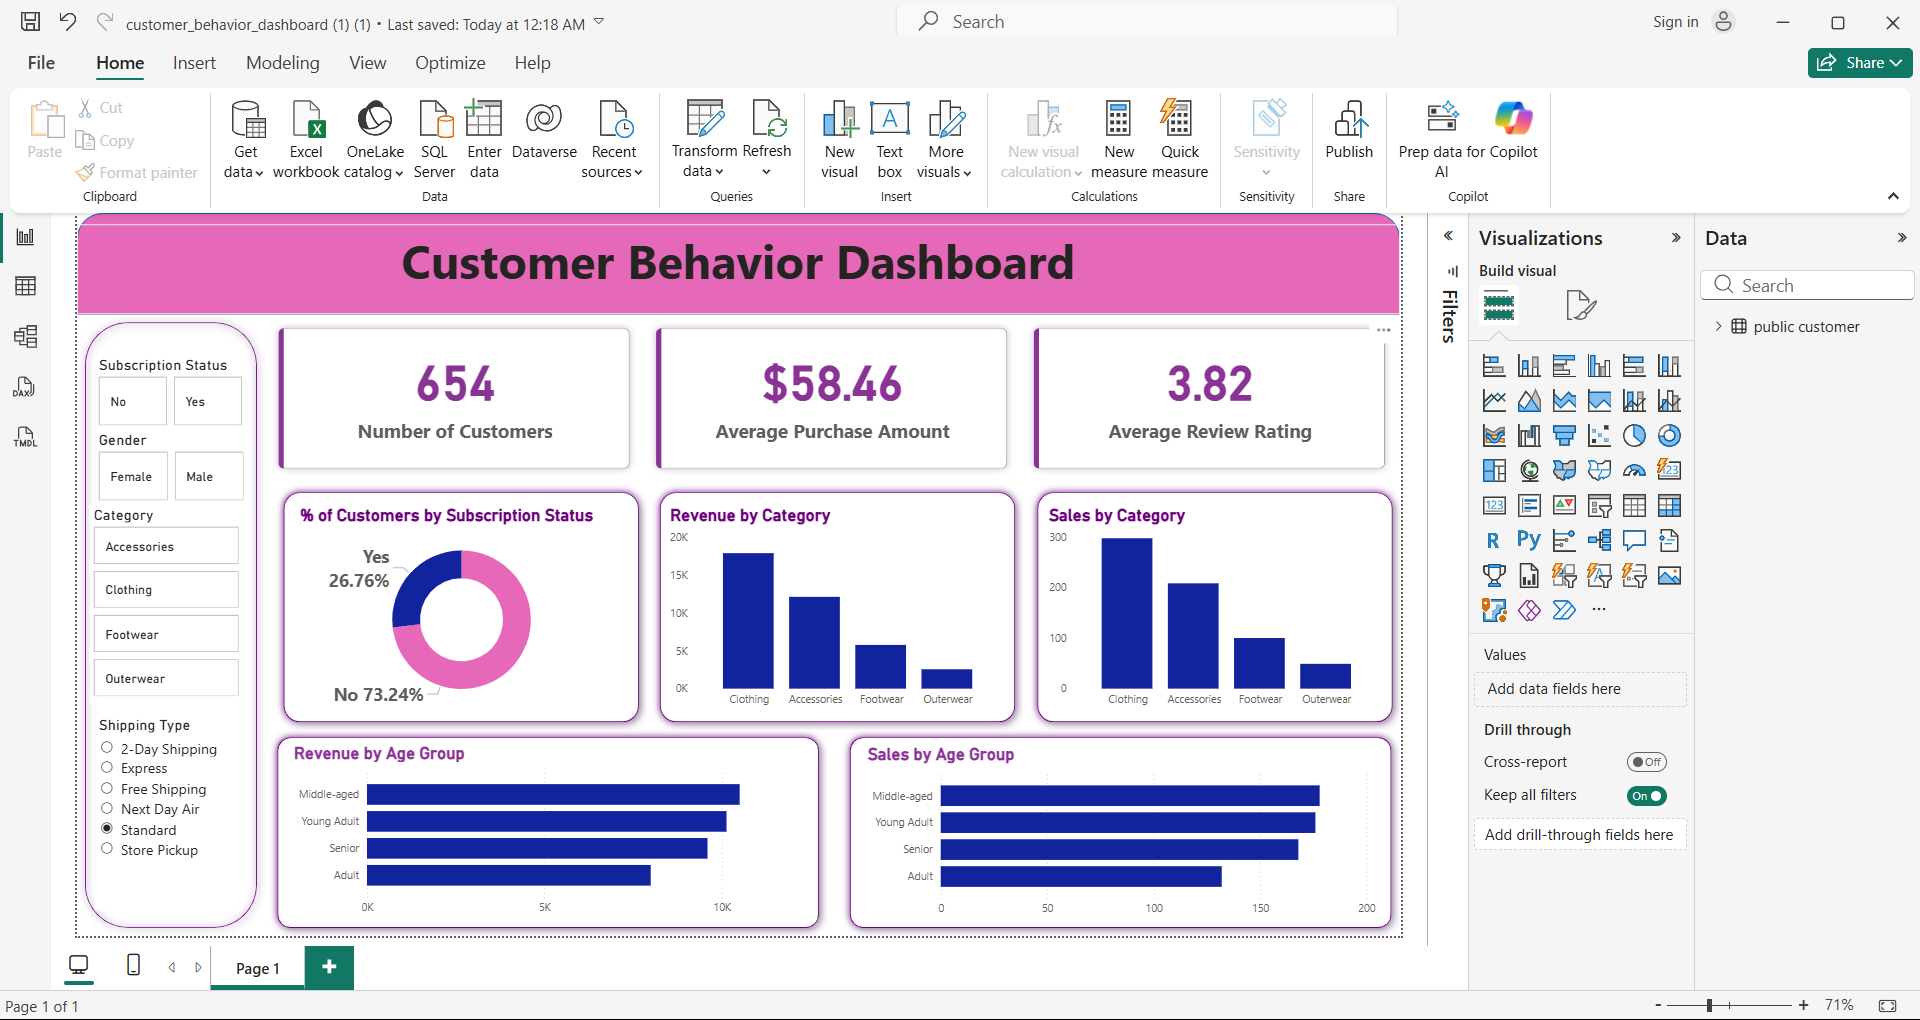

The page's visual inventory and layout, read from the dashboard file:
{"tool":"powerbi","page":{"name":"Page 1","canvas":[1500,820],"ordinal":0},"visuals":[{"type":"cardVisual","fields":{"Data":["public customer.Number of Customers","public customer.Average Purchase Amount","public customer.Average Review Rating"]},"box":[212.9,115.3,1286.5,191.6],"z":2000},{"type":"shape","box":[218.3,585.6,631.7,234.2],"z":2500,"group":"g1"},{"type":"shape","box":[0,0,1499.4,115.3],"z":3000},{"type":"textbox","box":[0,12.4,1499.4,102.9],"z":4000},{"type":"shape","box":[225.4,307,420.5,278.6],"z":5000},{"type":"donutChart","title":"% of Customers by Subscription Status","fields":{"Category":["public customer.subscription_status"],"Y":["CountNonNull(public customer.customer_id)"]},"box":[248.4,331.8,376.2,237.8],"z":6000},{"type":"shape","box":[1078.9,307,420.5,278.6],"z":7000},{"type":"shape","box":[652.1,307,420.5,278.6],"z":8000},{"type":"clusteredColumnChart","title":"Revenue by Category","fields":{"Y":["Sum(public customer.purchase_amount)"],"Category":["public customer.category"]},"box":[667.2,331.8,385.1,237.8],"z":9000},{"type":"clusteredColumnChart","title":"Sales by Category","fields":{"Y":["CountNonNull(public customer.customer_id)"],"Category":["public customer.category"]},"box":[1096.6,331.8,385.1,237.8],"z":10000},{"type":"shape","box":[0,115.3,212.9,704.5],"z":11000},{"type":"advancedSlicerVisual","fields":{"Values":["public customer.subscription_status"]},"box":[19.5,161.5,173.9,85.2],"z":12000},{"type":"advancedSlicerVisual","fields":{"Values":["public customer.gender"]},"box":[19.8,246.5,174.3,85],"z":13000},{"type":"advancedSlicerVisual","fields":{"Values":["public customer.category"]},"box":[14.2,331.5,174.3,223.8],"z":14000},{"type":"listSlicer","fields":{"Values":["public customer.shipping_type"]},"box":[19.5,569.6,168.6,220],"z":15000},{"type":"shape","box":[867.7,585.6,631.7,234.2],"z":16000},{"type":"clusteredBarChart","title":"Sales by Age Group","fields":{"Y":["CountNonNull(public customer.customer_id)"],"Category":["public customer.age_group"]},"box":[890.8,601.5,585.6,204.1],"z":17000},{"type":"clusteredBarChart","title":"Revenue by Age Group","fields":{"Y":["Sum(public customer.purchase_amount)"],"Category":["public customer.age_group"]},"box":[241.4,601.6,585.6,204.1],"z":17500,"group":"g1"},{"type":"group","id":"g1","title":"Group 1","box":[218.3,585.6,631.7,234.2],"z":17501}]}

Visuals, with their boxes on the page's 1500x820 design canvas (x1, y1, x2, y2). These are canvas units, not pixel positions in the 1920x1020 screenshot, which may show the page scaled, cropped or inside an application window:
cardVisual - public customer.Number of Customers x public customer.Average Purchase Amount: pyautogui.locateOnScreen(213, 115, 1499, 307)
shape: pyautogui.locateOnScreen(218, 586, 850, 820)
shape: pyautogui.locateOnScreen(0, 0, 1499, 115)
textbox: pyautogui.locateOnScreen(0, 12, 1499, 115)
shape: pyautogui.locateOnScreen(225, 307, 646, 586)
"% of Customers by Subscription Status" donutChart: pyautogui.locateOnScreen(248, 332, 625, 570)
shape: pyautogui.locateOnScreen(1079, 307, 1499, 586)
shape: pyautogui.locateOnScreen(652, 307, 1073, 586)
"Revenue by Category" clusteredColumnChart: pyautogui.locateOnScreen(667, 332, 1052, 570)
"Sales by Category" clusteredColumnChart: pyautogui.locateOnScreen(1097, 332, 1482, 570)
shape: pyautogui.locateOnScreen(0, 115, 213, 820)
advancedSlicerVisual - public customer.subscription_status: pyautogui.locateOnScreen(20, 162, 193, 247)
advancedSlicerVisual - public customer.gender: pyautogui.locateOnScreen(20, 246, 194, 332)
advancedSlicerVisual - public customer.category: pyautogui.locateOnScreen(14, 332, 188, 555)
listSlicer - public customer.shipping_type: pyautogui.locateOnScreen(20, 570, 188, 790)
shape: pyautogui.locateOnScreen(868, 586, 1499, 820)
"Sales by Age Group" clusteredBarChart: pyautogui.locateOnScreen(891, 602, 1476, 806)
"Revenue by Age Group" clusteredBarChart: pyautogui.locateOnScreen(241, 602, 827, 806)
"Group 1" group: pyautogui.locateOnScreen(218, 586, 850, 820)
